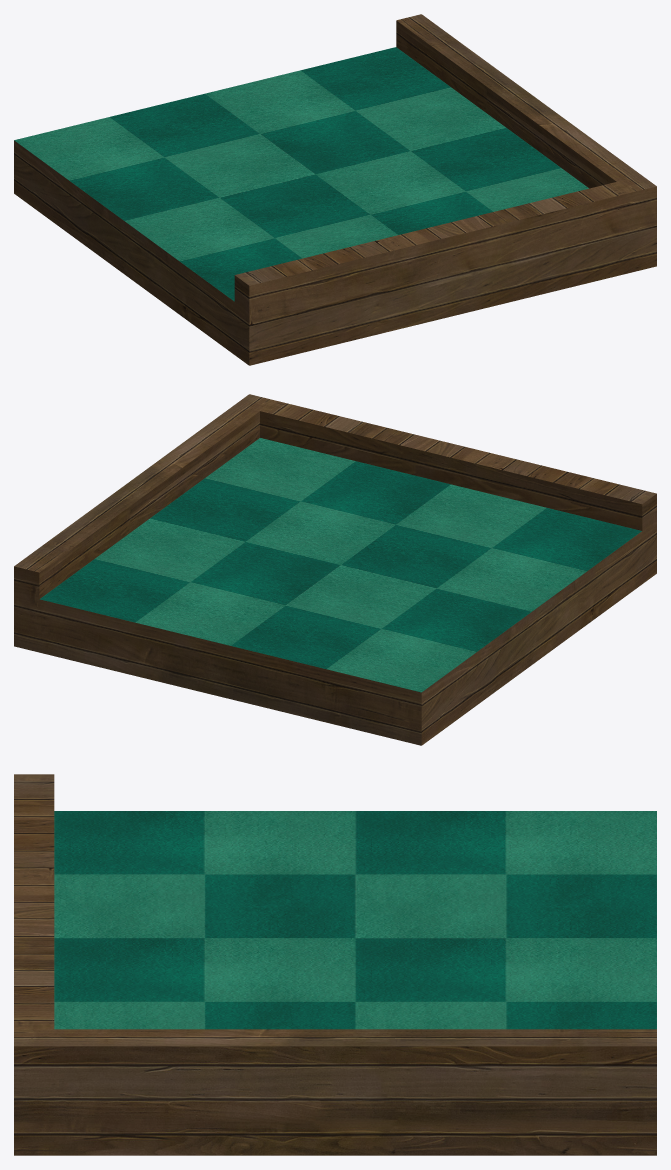
The model's file is Corner1.gltf.
3 views of the same model, one above another, from view 1: azimuth 30°, elevation 25°; view 2: azimuth 150°, elevation 25°; view 3: azimuth 270°, elevation 25° (orthographic). The views are drawn at different scales.
Parts seen in each view (by area): view 1: Corner1_glb; view 2: Corner1_glb; view 3: Corner1_glb.
Part boxes in pixels (x1=…): Corner1_glb: x1=14, y1=14, x2=656, y2=365; Corner1_glb: x1=14, y1=394, x2=656, y2=745; Corner1_glb: x1=14, y1=774, x2=656, y2=1155.
Size of what is drawn, in the model's own units: 4 by 0.75 by 4.
Materials: 2 (2 with a texture image).
